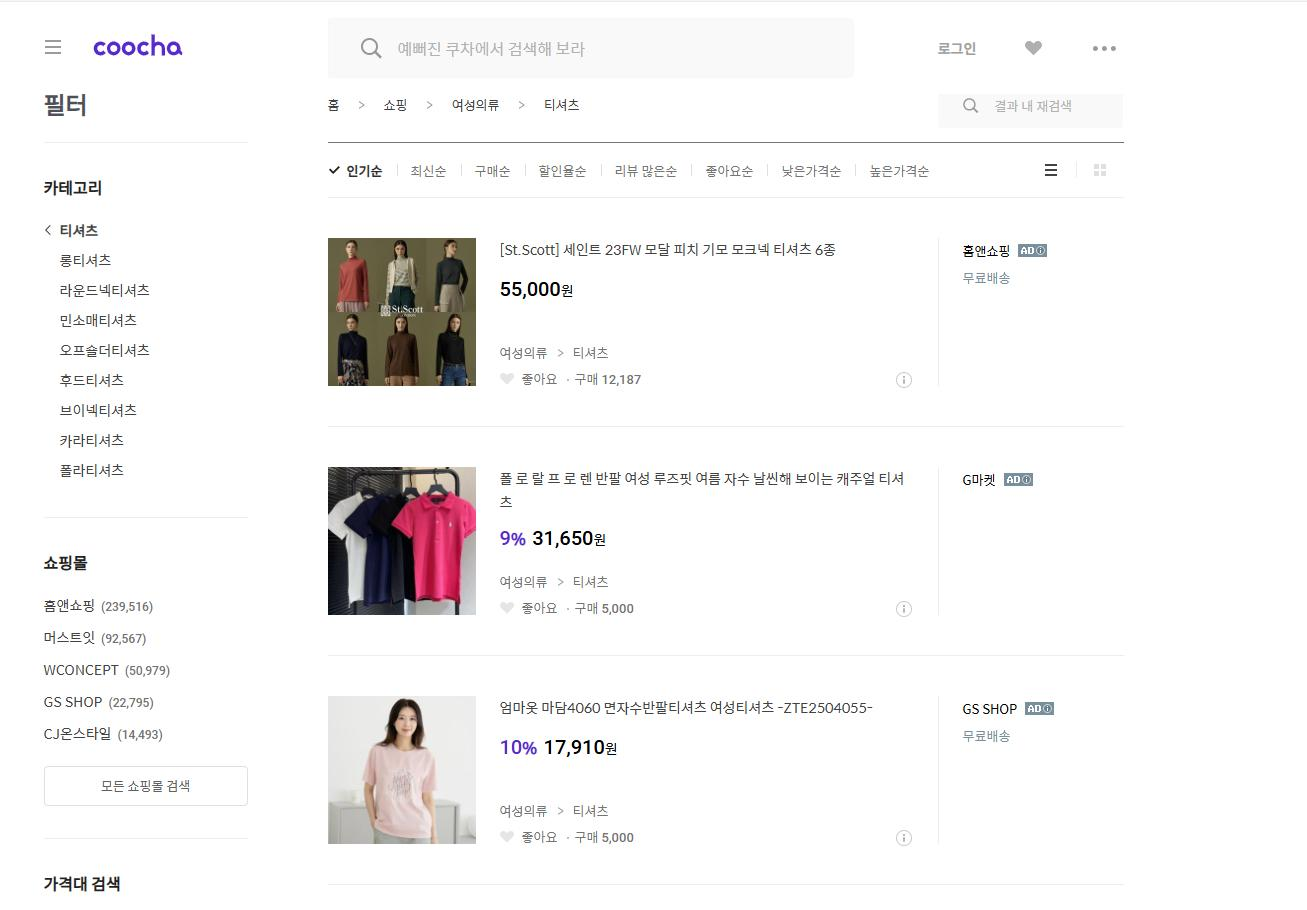button: (44, 765, 251, 809), (40, 657, 173, 681), (40, 690, 173, 714), (39, 722, 172, 746), (42, 595, 159, 619), (42, 626, 158, 650), (862, 154, 943, 188), (770, 155, 851, 188), (604, 155, 684, 188), (55, 339, 156, 364), (55, 309, 156, 333), (54, 368, 155, 392), (54, 427, 155, 451), (55, 276, 155, 300), (55, 399, 155, 423), (55, 460, 155, 484), (322, 153, 391, 187), (700, 156, 760, 189), (31, 28, 74, 73), (932, 32, 987, 67), (1079, 37, 1133, 72), (401, 154, 458, 187), (465, 154, 522, 187), (534, 155, 591, 188), (54, 248, 118, 272), (1016, 34, 1055, 62)
input_field: (325, 18, 853, 73), (938, 89, 1124, 129)
